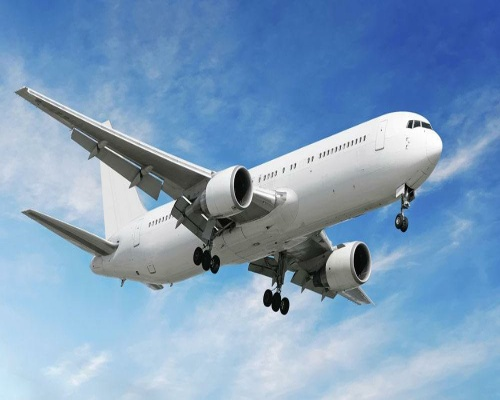plane: (9, 81, 448, 321)
